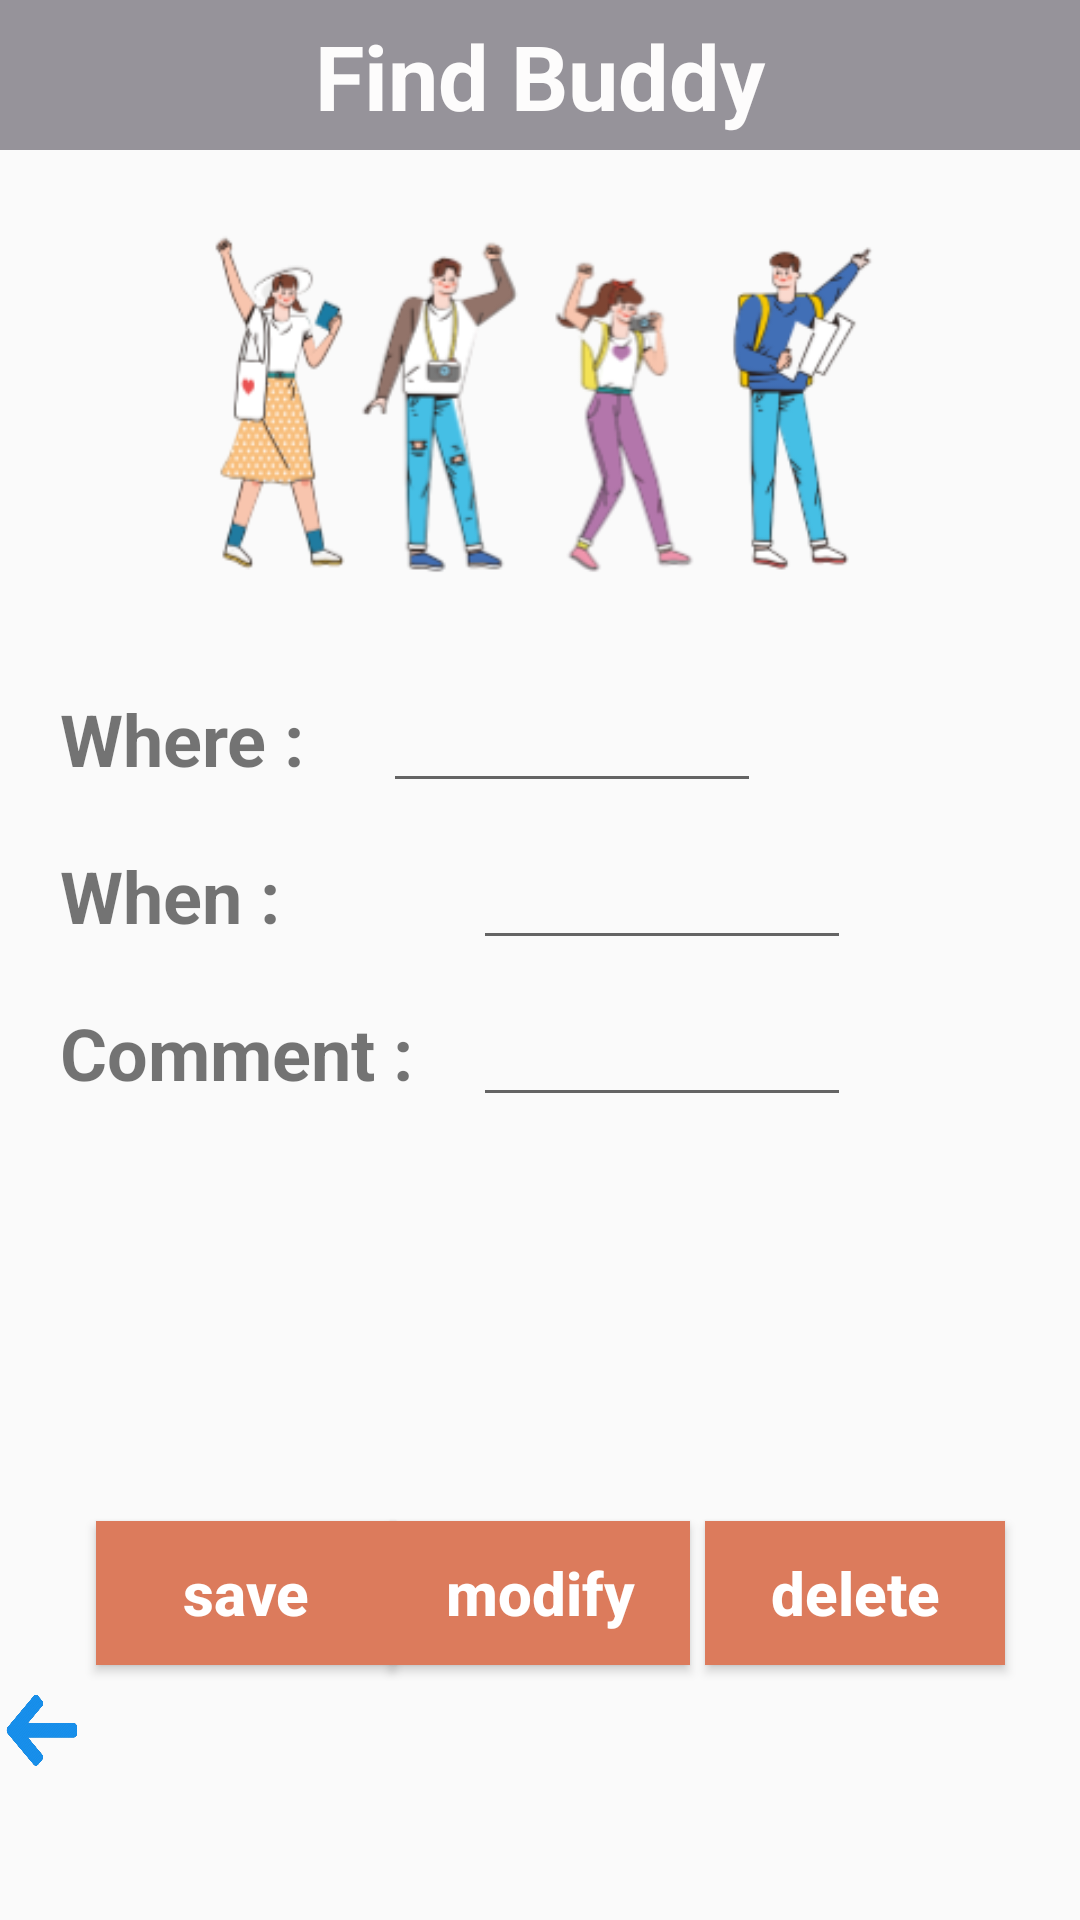

Icons on this 1080px x 1920px Android screen, each with the point to tap as point (x, y):
back: point (41, 1730)
